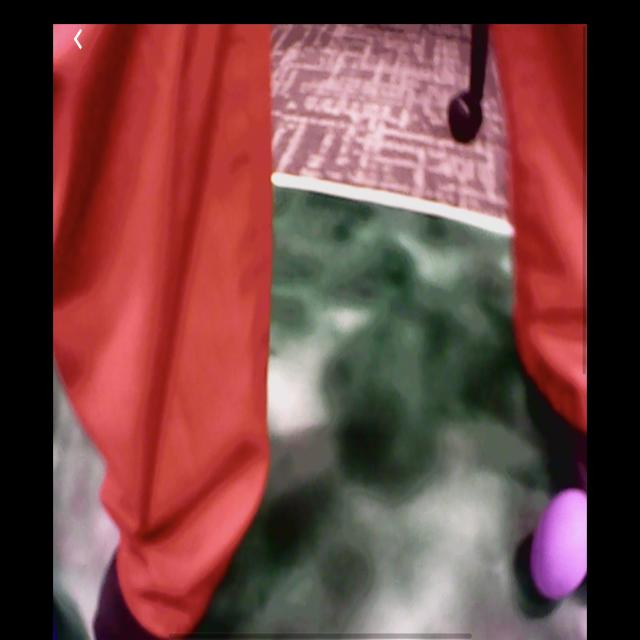ball: (529, 489, 588, 601)
